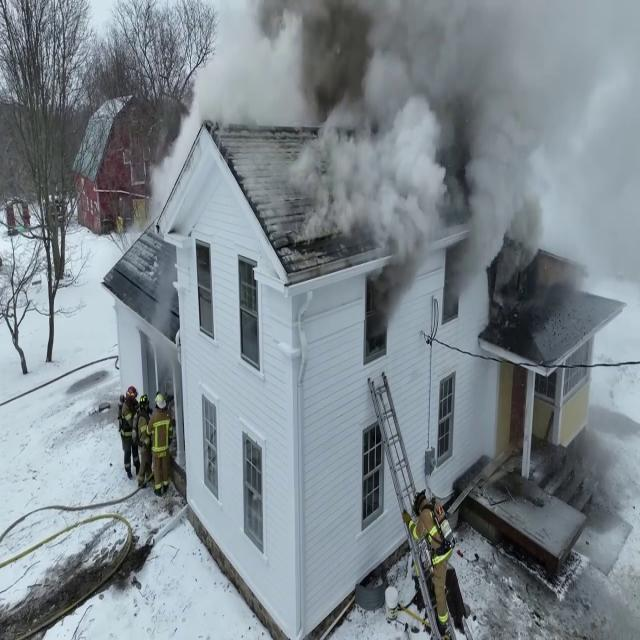Smoke: (279, 0, 626, 275)
